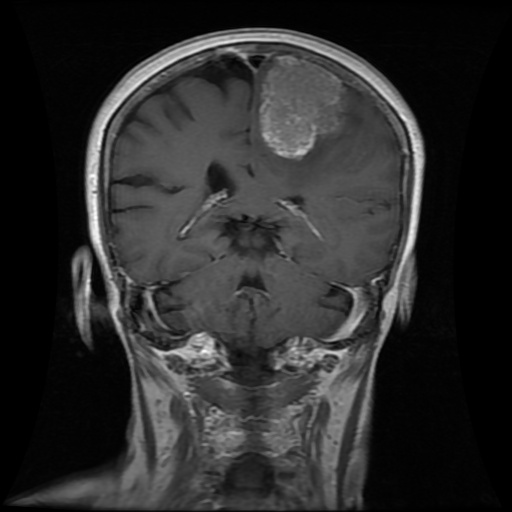meningioma: (258, 55, 348, 158)
